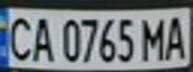0: (57, 15, 81, 63)
5: (115, 15, 139, 63)
6: (96, 15, 121, 64)
7: (78, 15, 100, 64)
A: (160, 11, 193, 61), (27, 14, 57, 63)
C: (3, 12, 36, 63)
M: (139, 14, 172, 62)
